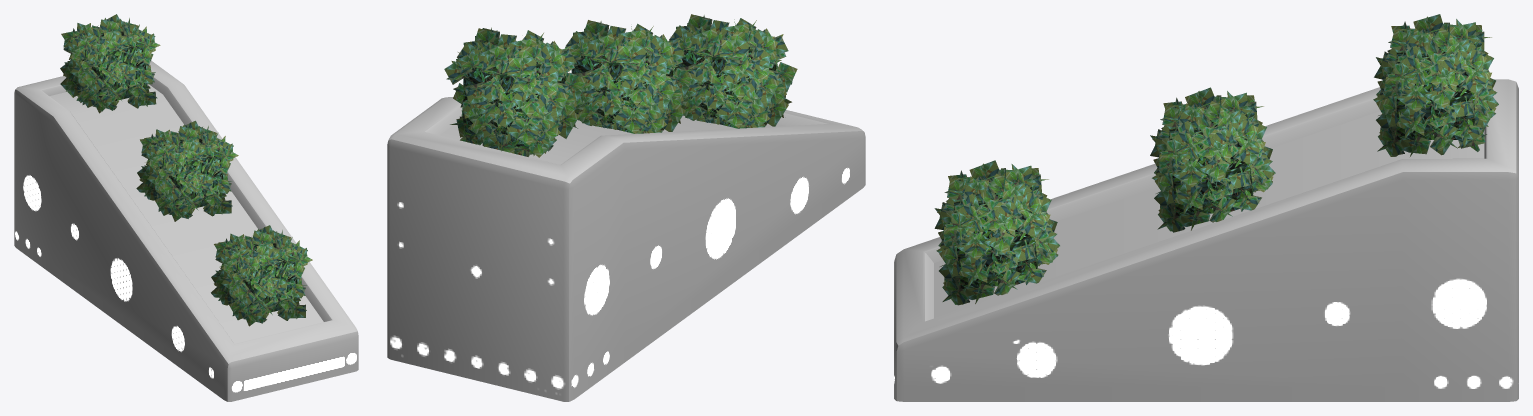
3 renders of one model, left to right at view 1: azimuth 30°, elevation 25°; view 2: azimuth 150°, elevation 25°; view 3: azimuth 270°, elevation 25°, orthographic. The views are drawn at different scales.
Parts seen in each view (by area): view 1: Final_Baked061, HedgeSmall002; view 2: Final_Baked061, HedgeSmall002; view 3: Final_Baked061, HedgeSmall002.
Boxes of the visible parts, left/top/right/bottom form: Final_Baked061: left=14, top=60, right=358, bottom=401; HedgeSmall002: left=60, top=14, right=312, bottom=326; Final_Baked061: left=387, top=97, right=865, bottom=401; HedgeSmall002: left=444, top=14, right=797, bottom=157; Final_Baked061: left=894, top=79, right=1518, bottom=401; HedgeSmall002: left=934, top=14, right=1498, bottom=305.
Bounding box in the file's own units: 1.16 × 1.86 × 3.26.
